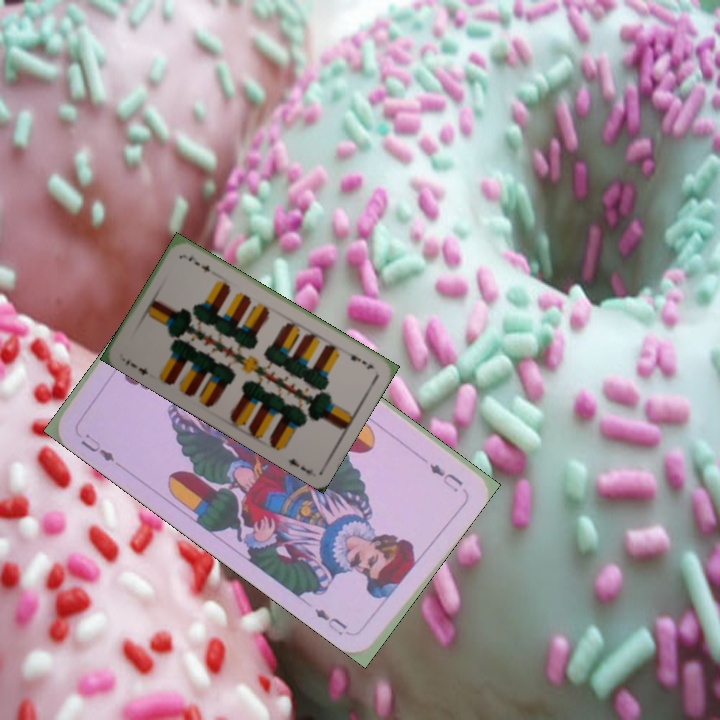E7: (341, 347, 377, 372), (121, 356, 151, 378)
EU: (77, 429, 118, 464), (425, 459, 466, 494)
